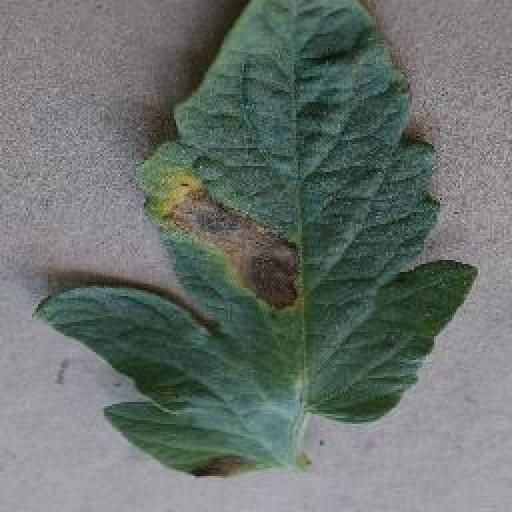disease_tomato: (32, 0, 478, 480)
